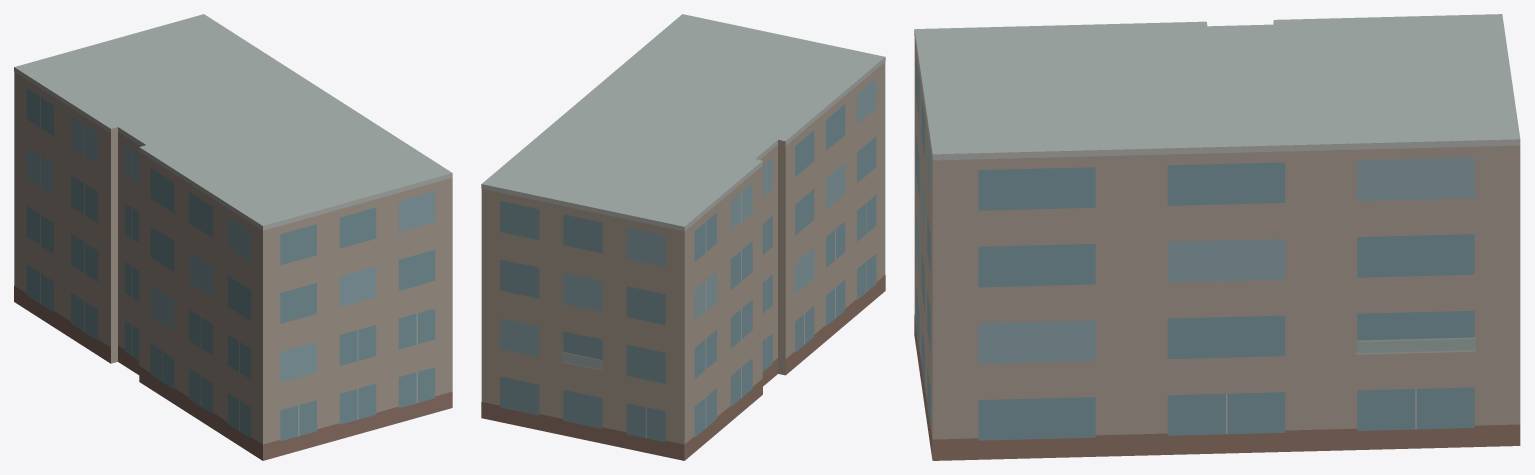
The model's file is survey-upis-33046270.glb.
3 renders of one model, left to right at view 1: azimuth 30°, elevation 25°; view 2: azimuth 150°, elevation 25°; view 3: azimuth 270°, elevation 25°, orthographic. The views are drawn at different scales.
Visible parts, largest first — view 1: survey-upis-33046270.tmp; view 2: survey-upis-33046270.tmp; view 3: survey-upis-33046270.tmp.
Part boxes in pixels (left/top/right/bottom): survey-upis-33046270.tmp: left=14, top=14, right=452, bottom=460; survey-upis-33046270.tmp: left=481, top=14, right=885, bottom=460; survey-upis-33046270.tmp: left=914, top=14, right=1520, bottom=460.
Bounding box in the file's own units: 11.99 × 12.2 × 21.87.
